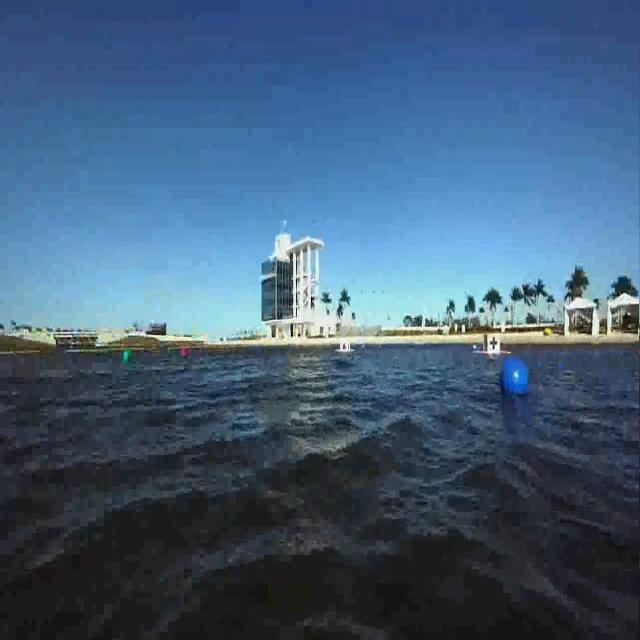blue-buoy: (498, 356, 530, 401)
